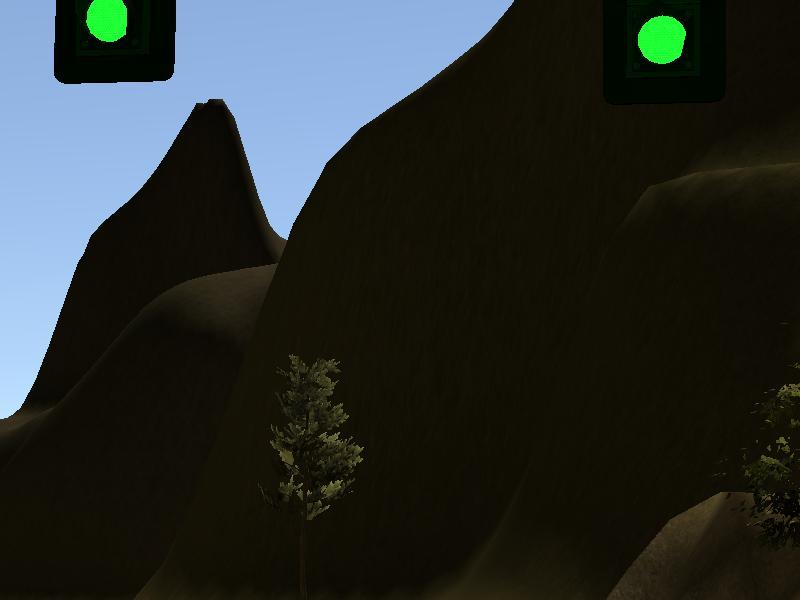Green: (601, 1, 724, 103), (55, 1, 173, 83)
